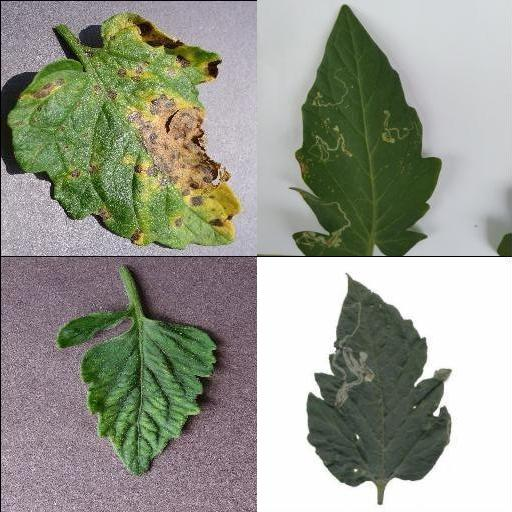Leaf Miner: (291, 4, 443, 256), (306, 273, 454, 487)
Mosaic Virus: (54, 309, 220, 479)
Septoria: (6, 13, 236, 247)
